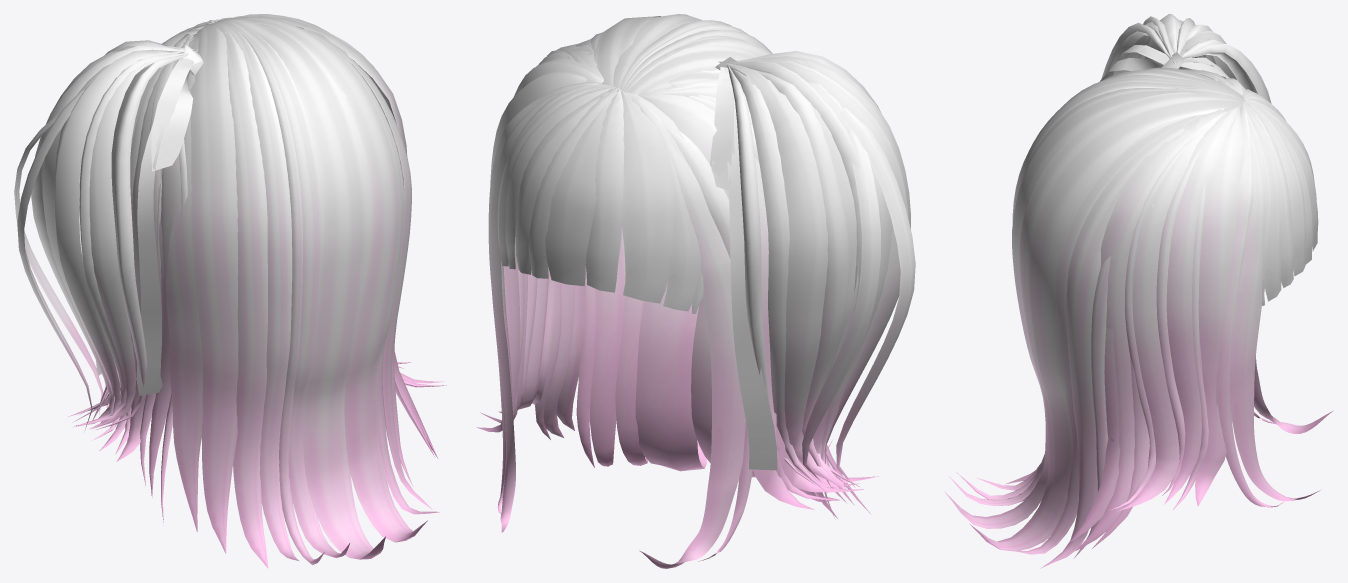
The model's file is hair8.glb.
3 renders of one model, left to right at view 1: azimuth 30°, elevation 25°; view 2: azimuth 150°, elevation 25°; view 3: azimuth 270°, elevation 25°, orthographic. The views are drawn at different scales.
Parts seen in each view (by area): view 1: Hair; view 2: Hair; view 3: Hair.
Part boxes in pixels (left/top/right/bottom): Hair: left=14, top=14, right=446, bottom=568; Hair: left=476, top=14, right=915, bottom=568; Hair: left=944, top=14, right=1333, bottom=568.
Bounding box in the file's own units: 0.3488 × 0.3966 × 0.3146.
Materials: 3 (3 with a texture image).
